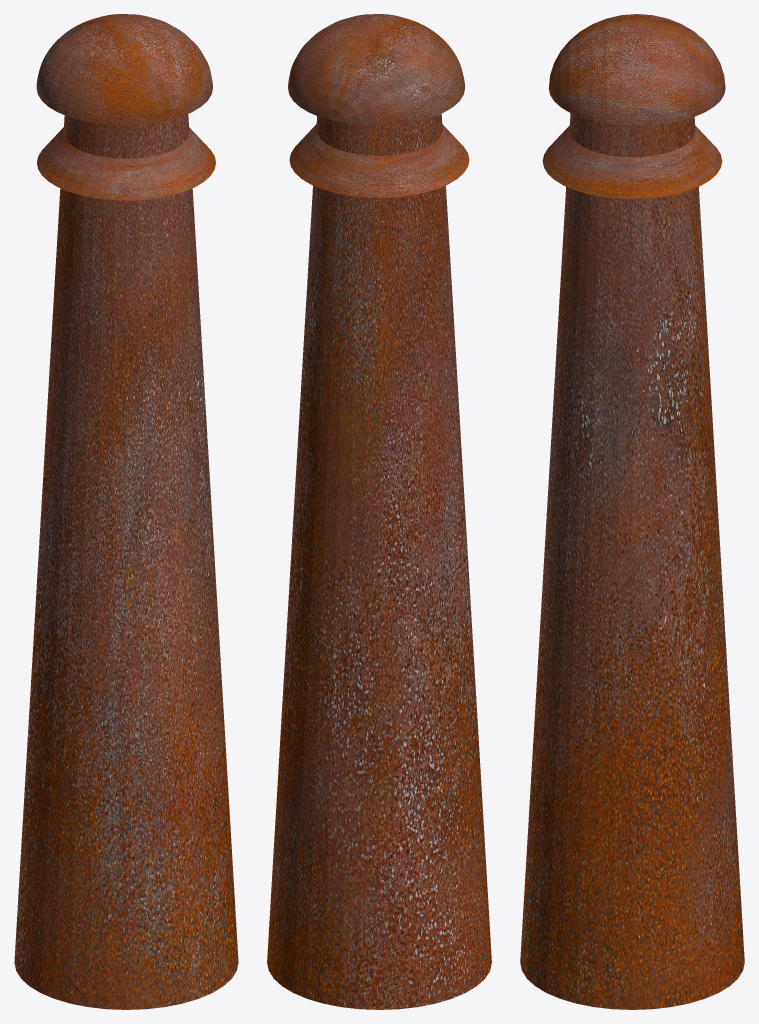
File: tower-3.glb
3 renders of one model, left to right at view 1: azimuth 30°, elevation 25°; view 2: azimuth 150°, elevation 25°; view 3: azimuth 270°, elevation 25°, orthographic.
Size of the model in its own units: 9.19 by 42.39 by 9.19.
Materials: 1 (1 with a texture image).
